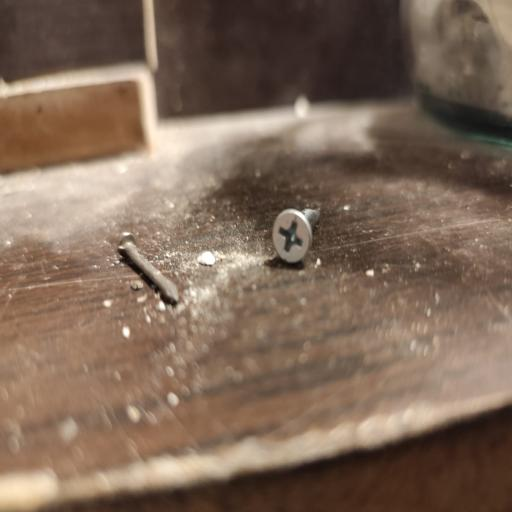Phillips: (263, 205, 317, 277)
